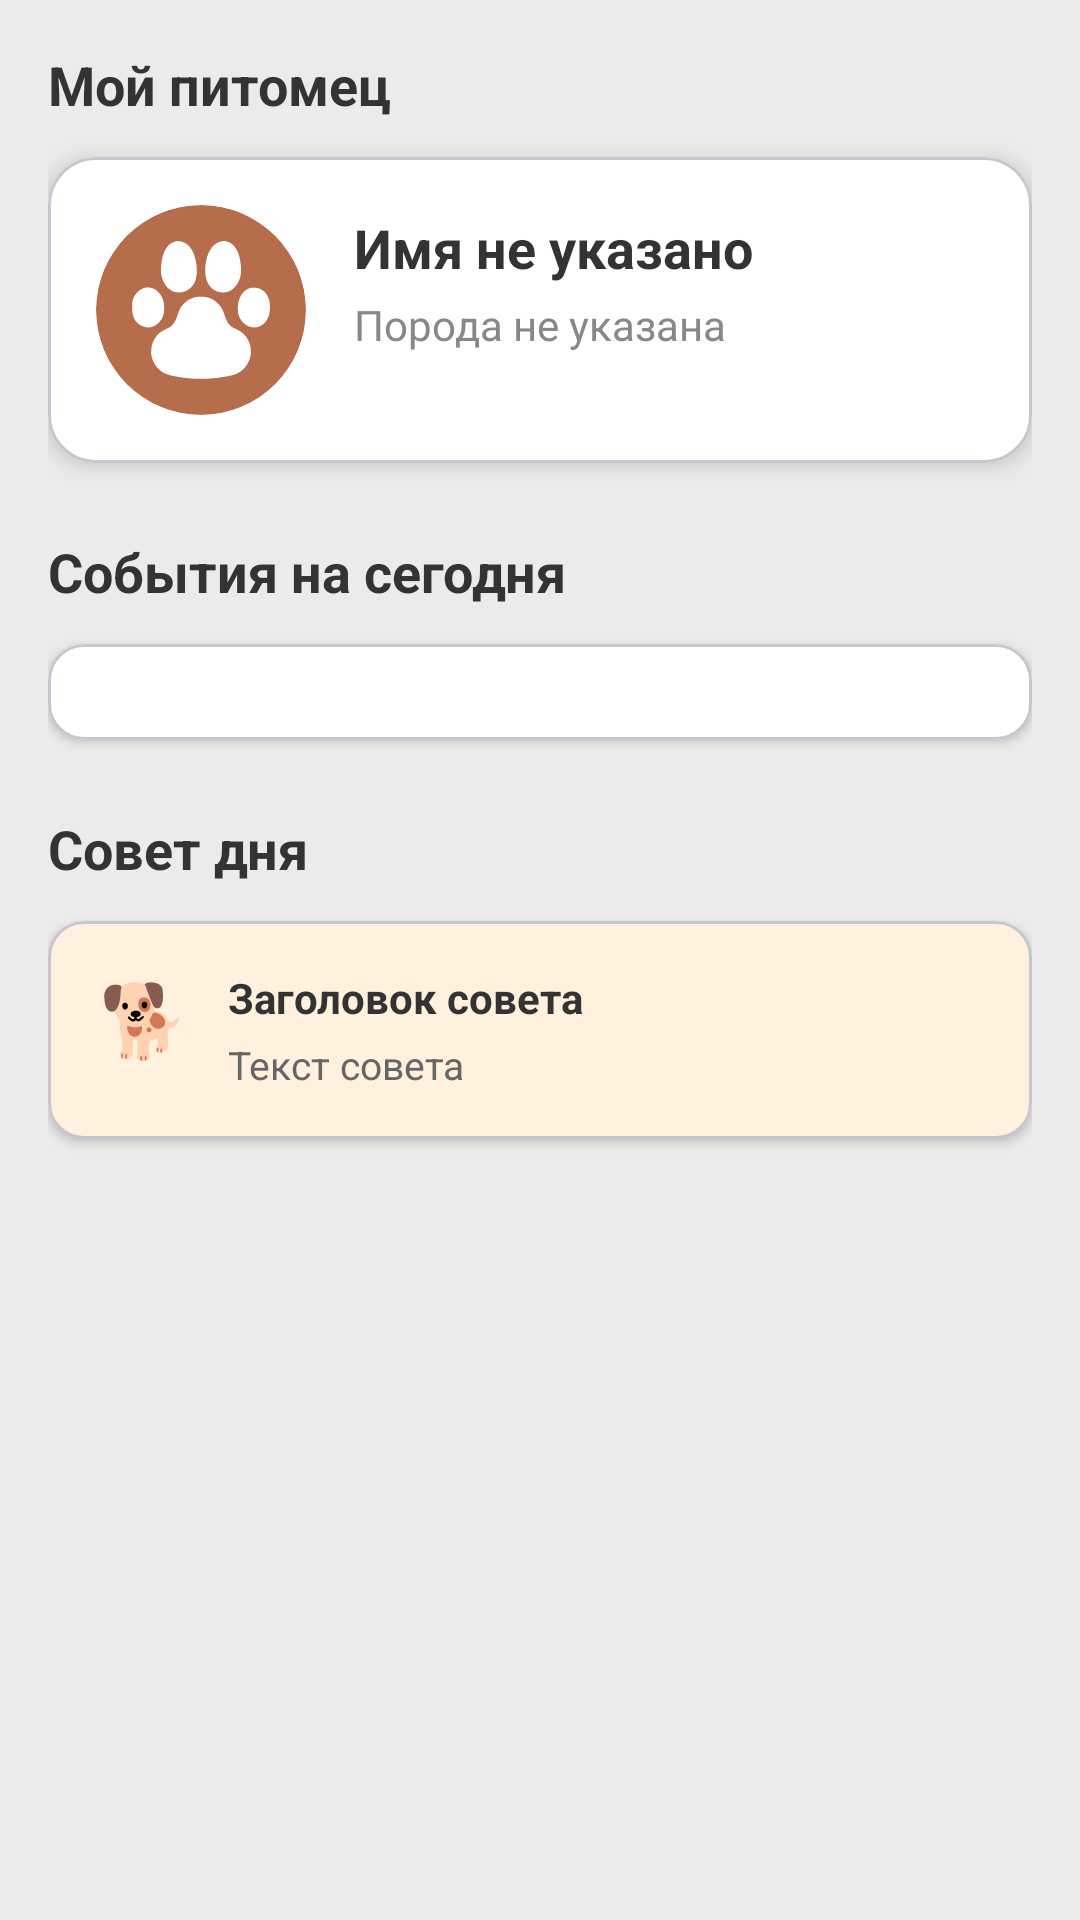

Screen size 1080px x 1920px. Icon name, then its center in pixels as (x,y):
paw: (201,310)
